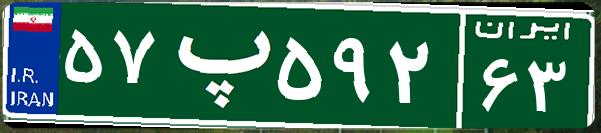2: (385, 28, 445, 110)
3: (525, 38, 570, 115)
5: (273, 28, 330, 110), (57, 26, 110, 107)
6: (475, 38, 525, 113)
7: (110, 28, 158, 105)
9: (330, 28, 385, 110)
پ: (158, 15, 273, 115)
